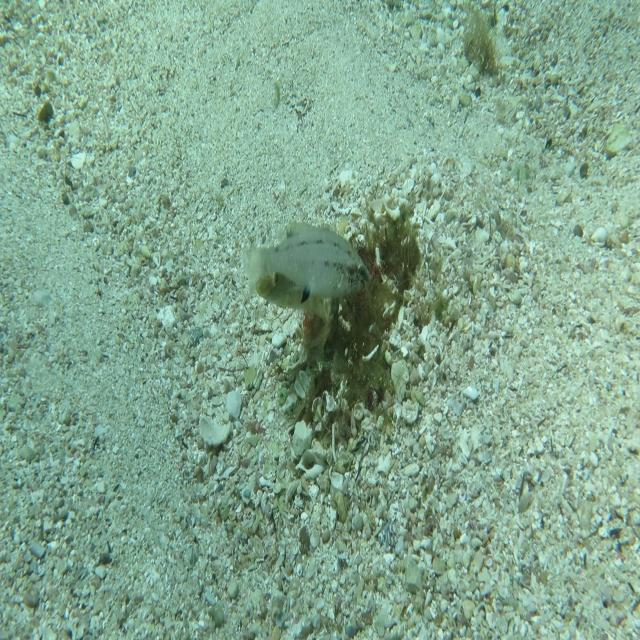DAN_CIRC: (256, 223, 336, 369)
core_nest: (346, 227, 399, 284)
female: (241, 221, 373, 306)
nest: (267, 174, 427, 440)
